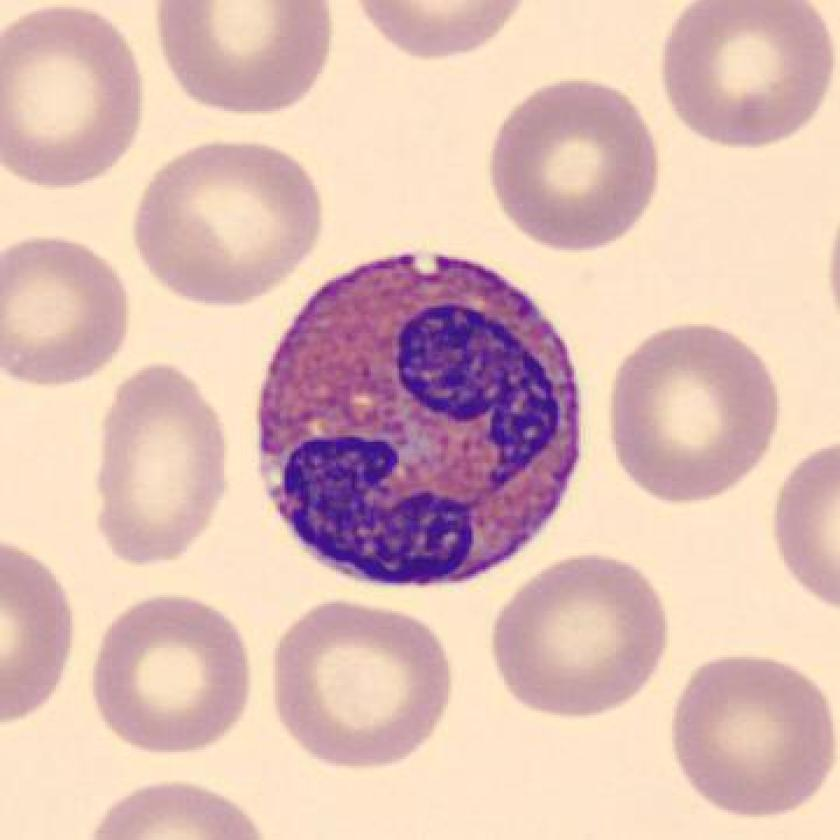eosinophil: (242, 246, 599, 589)
